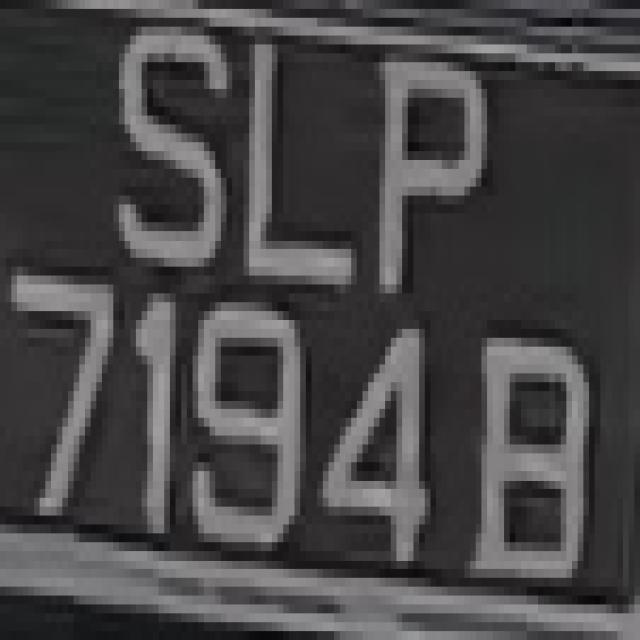1: (136, 258, 198, 560)
4: (312, 302, 453, 596)
7: (0, 249, 125, 533)
9: (181, 284, 312, 569)
B: (459, 302, 600, 622)
L: (243, 9, 374, 320)
P: (374, 36, 498, 311)
S: (90, 9, 244, 284)
